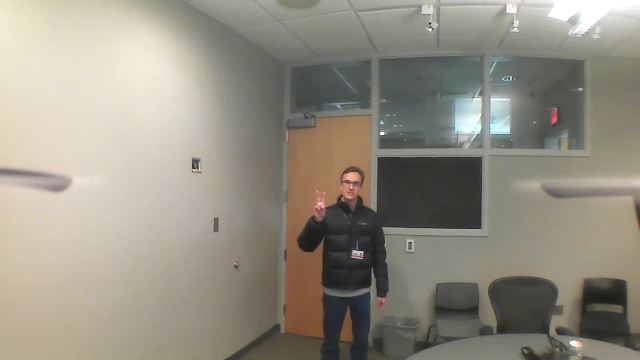peace: (308, 187, 330, 219)
